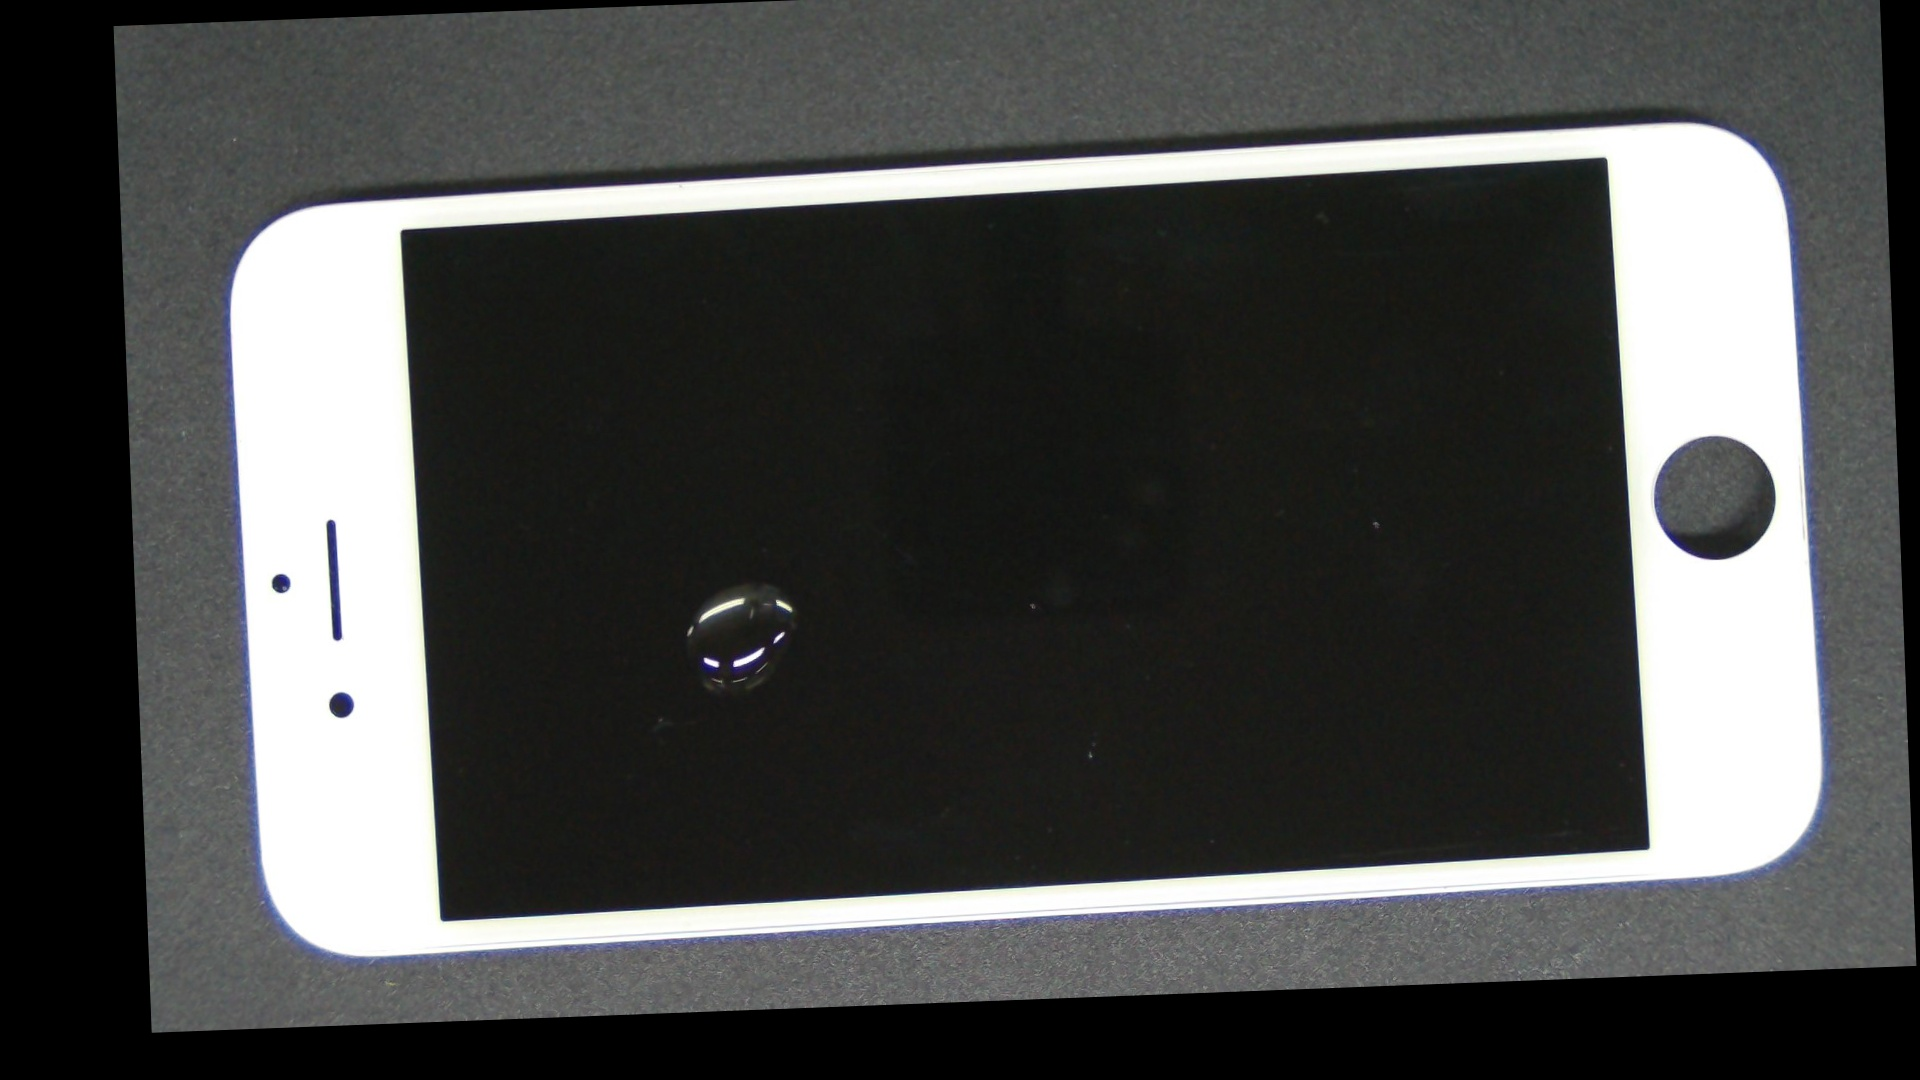oil: (430, 281, 1059, 886)
